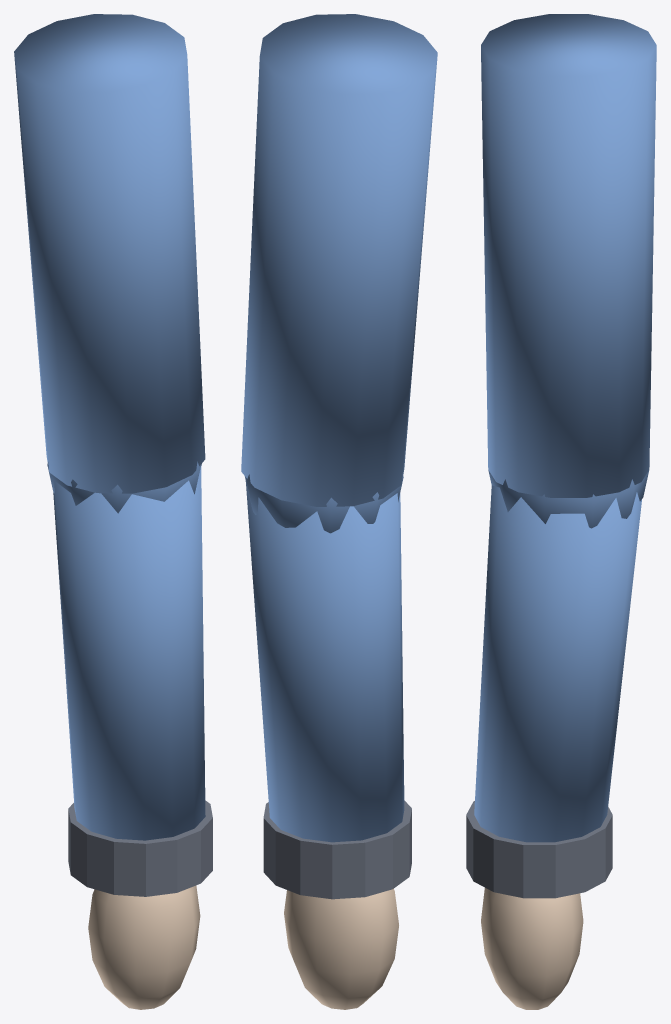
The model's file is crew__armR.fbx.
3 views of the same model, side by side, from view 1: azimuth 30°, elevation 25°; view 2: azimuth 150°, elevation 25°; view 3: azimuth 270°, elevation 25° (orthographic). The views are drawn at different scales.
Visible parts, largest first — view 1: crew__armR; view 2: crew__armR; view 3: crew__armR.
Boxes of the visible parts, left/top/right/bottom form: crew__armR: left=14, top=14, right=212, bottom=1009; crew__armR: left=241, top=14, right=437, bottom=1009; crew__armR: left=466, top=14, right=656, bottom=1009.
Bounding box in the file's own units: 0.1319 × 0.7188 × 0.13.
